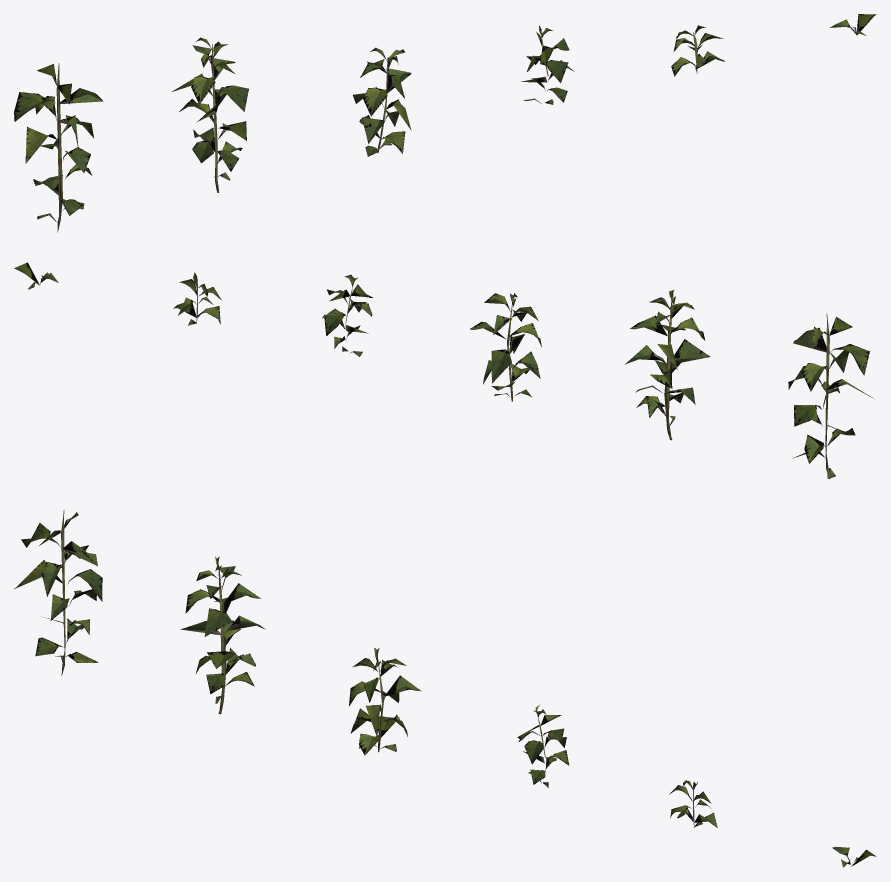
File: nettle_plant.glb
The picture shows the model from 3 angles, top to bottom: view 1: azimuth 30°, elevation 25°; view 2: azimuth 150°, elevation 25°; view 3: azimuth 330°, elevation 25°; orthographic projection.
Parts seen in each view (by area): view 1: nettle_plant_tall_a_LOD0, nettle_plant_tall_b_LOD0, nettle_plant_medium_a_LOD0, nettle_plant_medium_b_LOD0, nettle_plant_small_a_LOD0; view 2: nettle_plant_tall_a_LOD0, nettle_plant_tall_b_LOD0, nettle_plant_medium_a_LOD0, nettle_plant_medium_b_LOD0, nettle_plant_small_a_LOD0; view 3: nettle_plant_tall_a_LOD0, nettle_plant_tall_b_LOD0, nettle_plant_medium_a_LOD0, nettle_plant_medium_b_LOD0, nettle_plant_small_a_LOD0.
Part boxes in pixels (bbox=[...]): nettle_plant_tall_a_LOD0: bbox=[14, 63, 103, 232]; nettle_plant_tall_b_LOD0: bbox=[172, 37, 248, 192]; nettle_plant_medium_a_LOD0: bbox=[353, 47, 411, 156]; nettle_plant_medium_b_LOD0: bbox=[521, 26, 574, 104]; nettle_plant_small_a_LOD0: bbox=[671, 25, 724, 76]; nettle_plant_tall_a_LOD0: bbox=[788, 313, 873, 479]; nettle_plant_tall_b_LOD0: bbox=[625, 289, 710, 440]; nettle_plant_medium_a_LOD0: bbox=[470, 293, 541, 401]; nettle_plant_medium_b_LOD0: bbox=[322, 274, 372, 356]; nettle_plant_small_a_LOD0: bbox=[173, 272, 221, 325]; nettle_plant_tall_a_LOD0: bbox=[14, 510, 102, 675]; nettle_plant_tall_b_LOD0: bbox=[180, 556, 265, 714]; nettle_plant_medium_a_LOD0: bbox=[349, 648, 421, 755]; nettle_plant_medium_b_LOD0: bbox=[517, 705, 569, 787]; nettle_plant_small_a_LOD0: bbox=[669, 780, 717, 828].
Size of the model in its own units: 1.08 by 0.2037 by 0.0947.
Materials: 1 (1 with a texture image).
